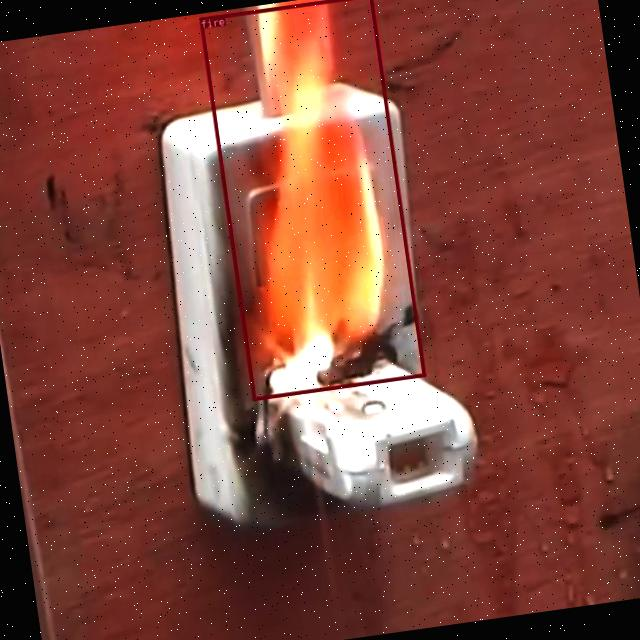fire: (198, 0, 424, 399)
